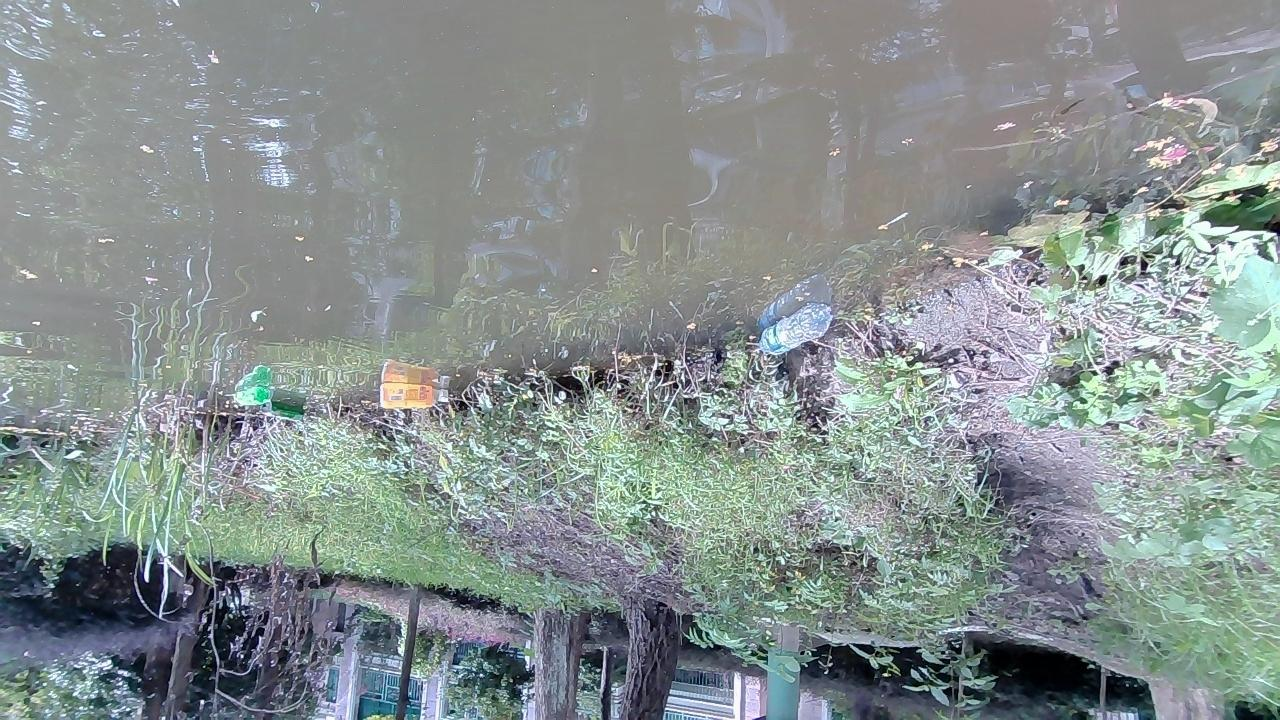Metal: (260, 399, 306, 422)
Plastic: (758, 301, 833, 355), (378, 382, 451, 410), (234, 384, 273, 406)
